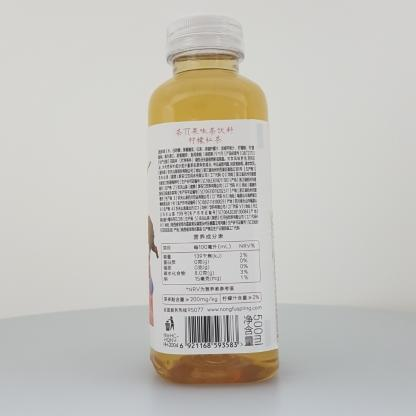------------: (147, 15, 279, 384)
